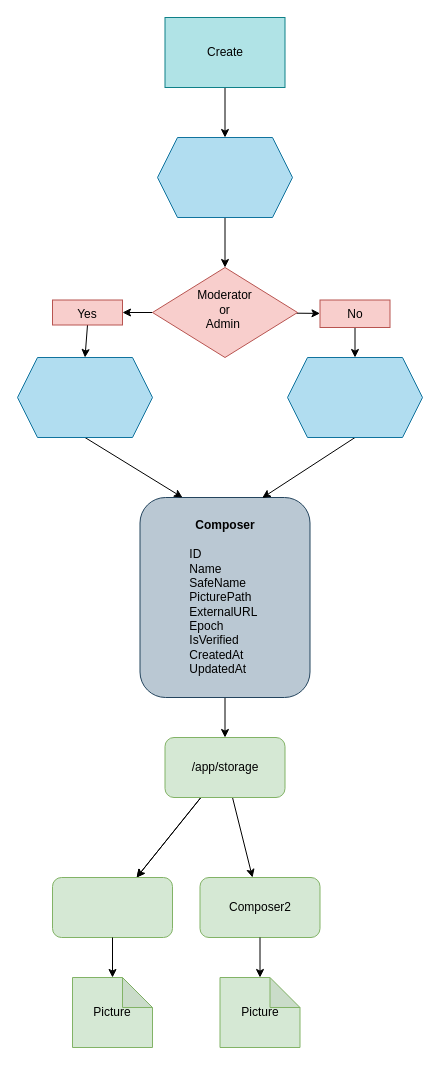
This 440x1065 diagram has some shape labels left out. The centre of each missing label's shape, as x and y in pixels:
"Composer1" belongs at point (112, 907).
"IsVerified = False" belongs at point (354, 397).
"IsVerified = True or False" belongs at point (84, 397).
"Name ExternalURL Epoch File" belongs at point (224, 177).
